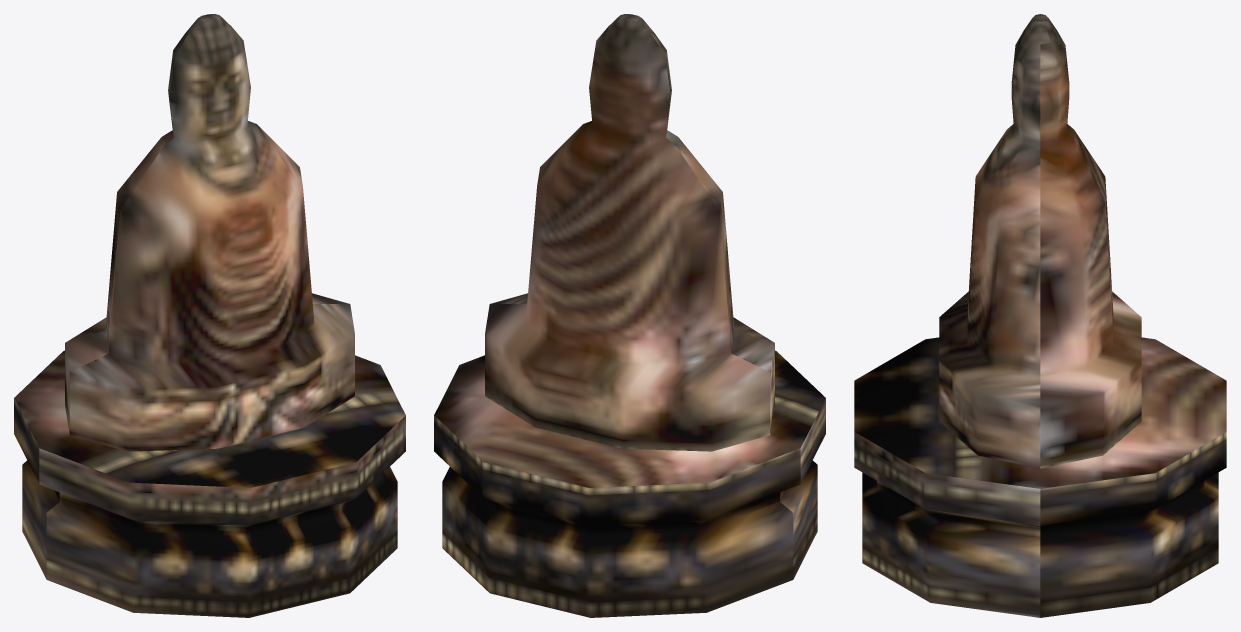
File: meditating_statue.FBX
3 renders of one model, left to right at view 1: azimuth 30°, elevation 25°; view 2: azimuth 150°, elevation 25°; view 3: azimuth 270°, elevation 25°, orthographic.
Parts seen in each view (by area): view 1: Cylinder001; view 2: Cylinder001; view 3: Cylinder001.
Boxes of the visible parts, bbox=[...] form: Cylinder001: bbox=[14, 14, 405, 617]; Cylinder001: bbox=[434, 14, 825, 617]; Cylinder001: bbox=[854, 14, 1226, 617].
Size of the model in its own units: 41.18 by 60.24 by 39.17.
